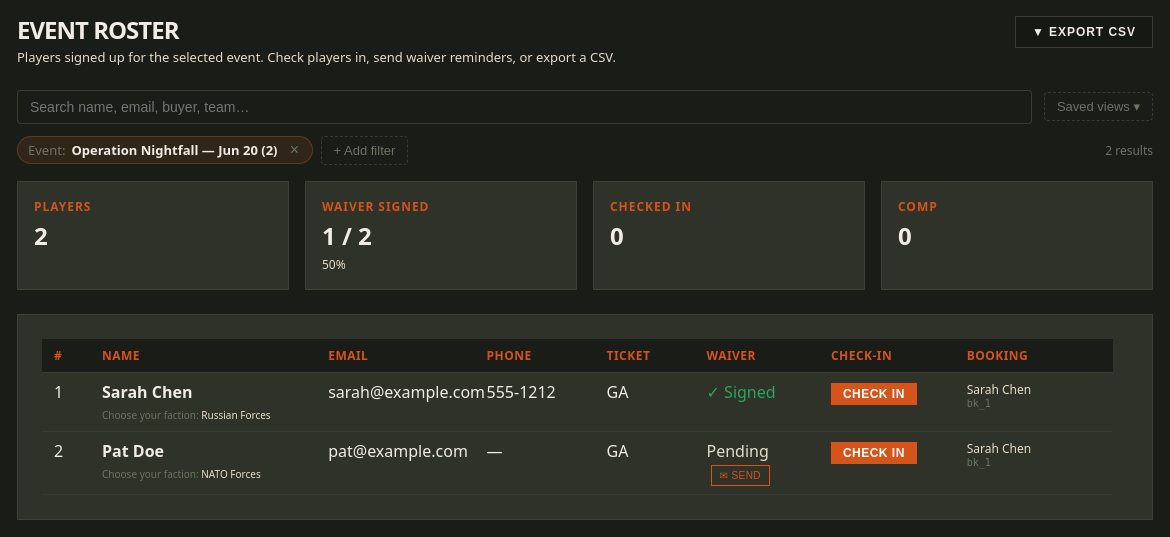
Test: AdminRoster › renders team answers and filters the roster by team via search
Expected: the text "Russian Forces" is shown, [201,408,271,422]
Expected: the text "NATO Forces" is shown, [201,467,261,481]
Typing a team name filters the roster to that team.
Type "russian" into the search field with placeholder "Search name, email, buyer, team…" at x=524, y=107, box [17,90,1032,124]
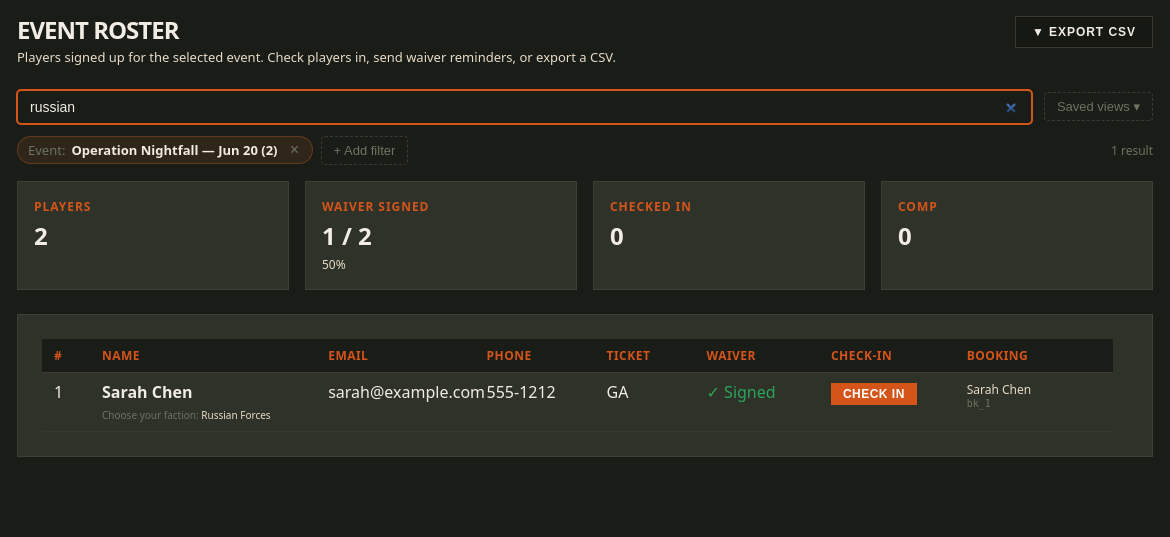
Expected: the text "sarah@example.com" is shown, [328,381,485,403]
Result: the text "Pat Doe" is gone
Result: the text "NATO Forces" is gone
